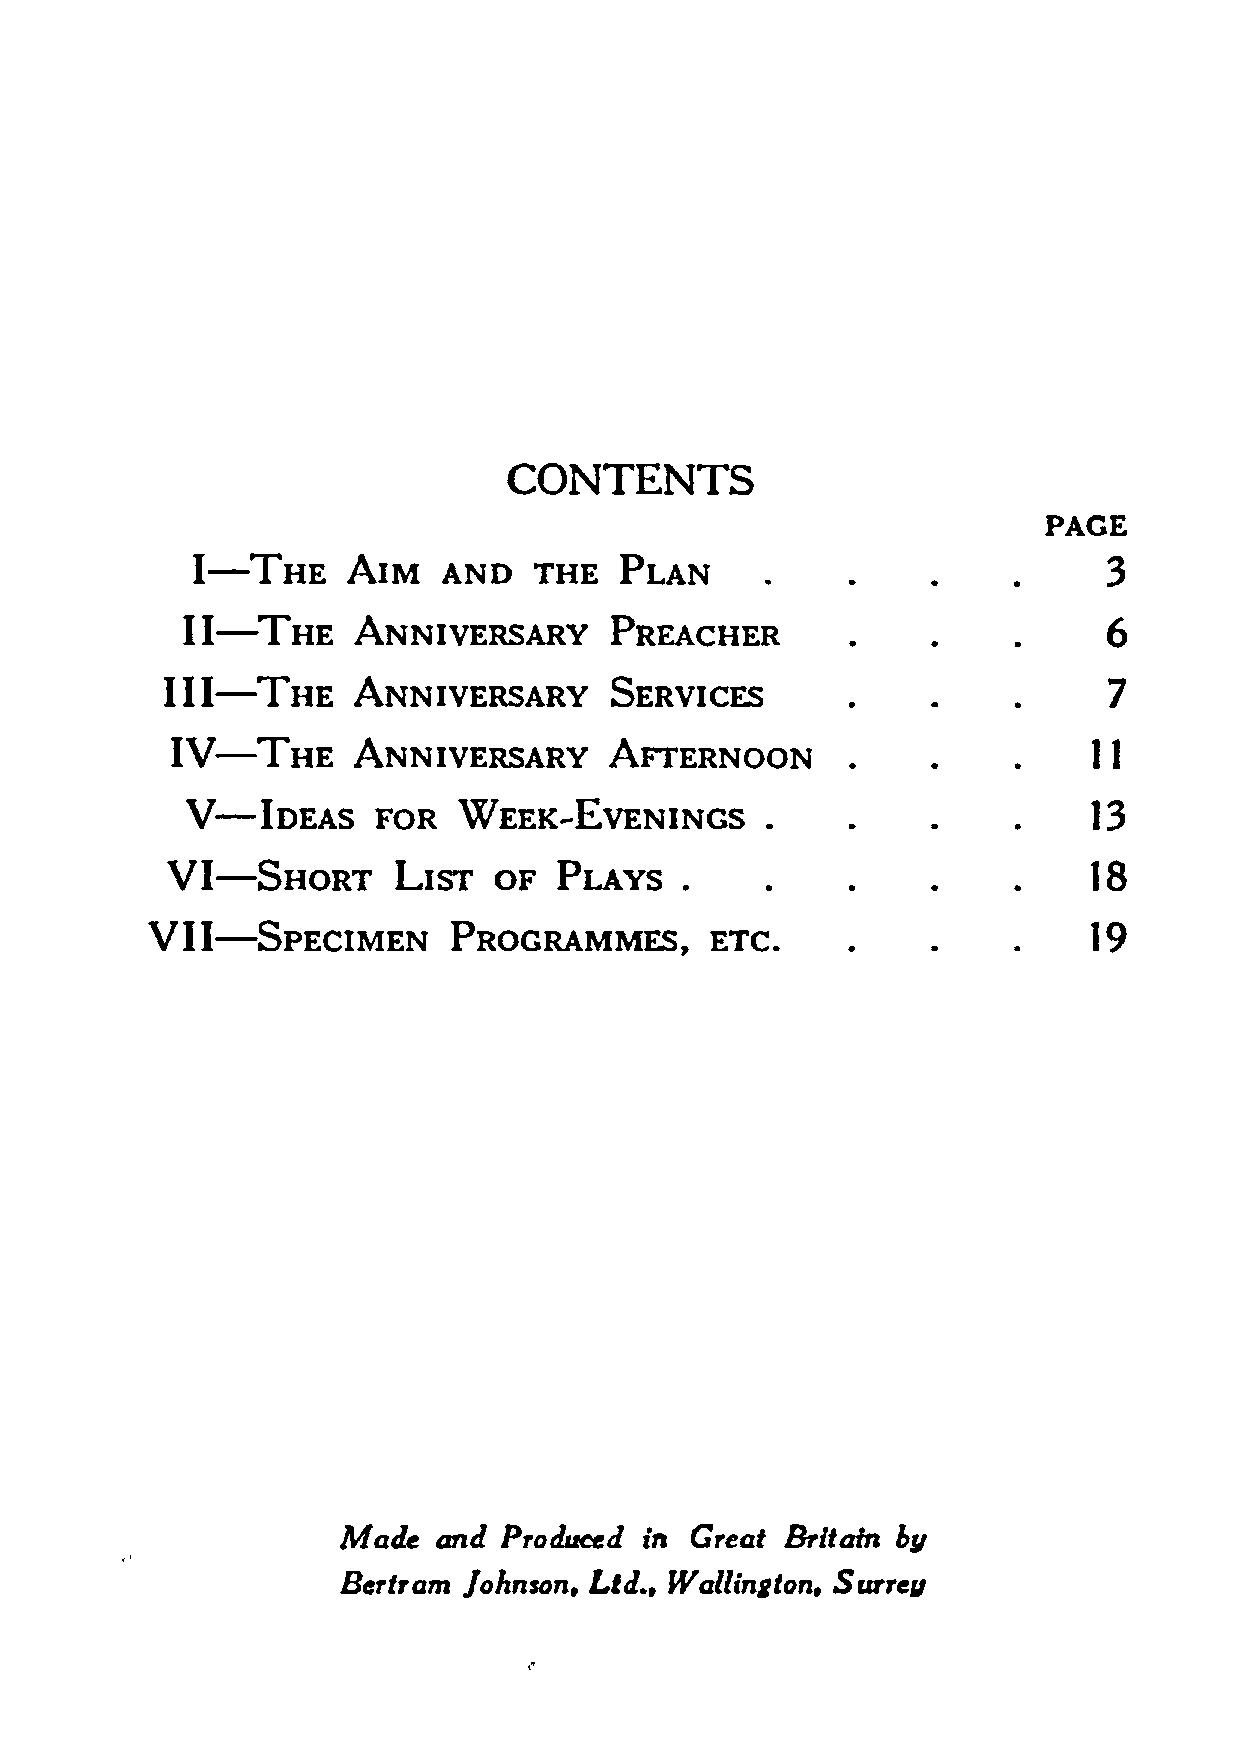TOC_chapter: (166, 729, 815, 774), (178, 607, 781, 651), (145, 917, 781, 957), (161, 672, 766, 711), (183, 544, 710, 588), (184, 792, 747, 831), (165, 851, 664, 892)
TOC_pagenumber: (499, 460, 758, 499), (1086, 855, 1125, 892), (1100, 611, 1135, 652), (1088, 914, 1125, 953), (1088, 733, 1125, 770), (1088, 796, 1125, 831), (1099, 553, 1129, 588), (1100, 674, 1129, 709)
